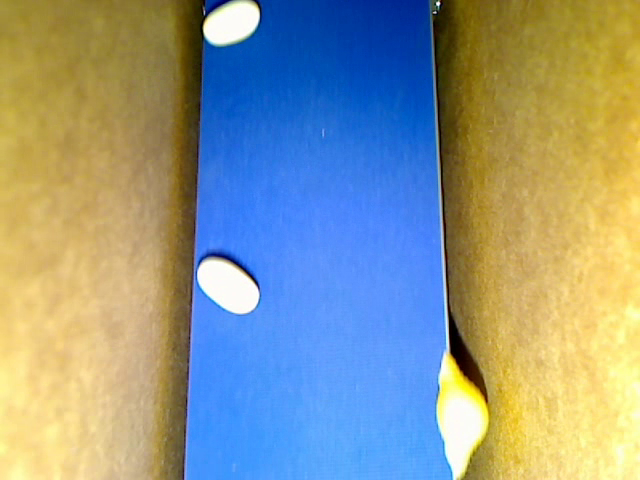shell: (436, 349, 490, 479)
